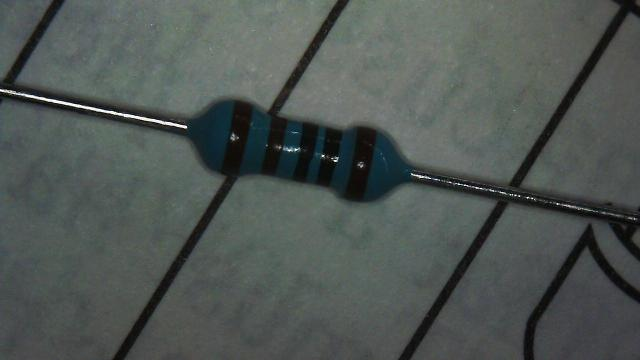black: (316, 128, 341, 186), (294, 124, 318, 180)
brown: (221, 101, 252, 176), (345, 127, 376, 201), (262, 116, 287, 175)
resistor: (174, 74, 431, 227)
